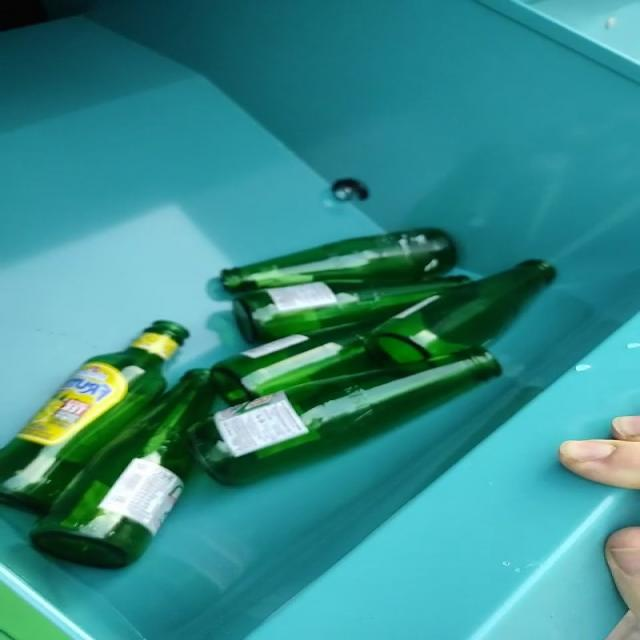glass: (1, 228, 555, 568)
